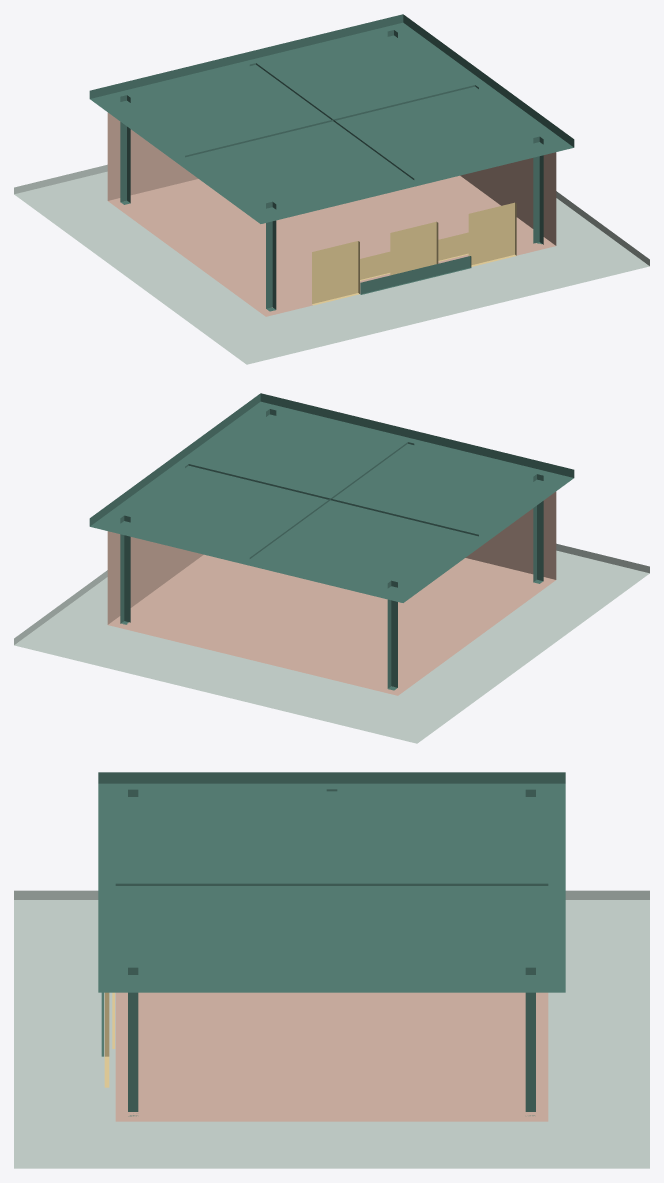
File: feed_plant.glb
3 renders of one model, top to bottom at view 1: azimuth 30°, elevation 25°; view 2: azimuth 150°, elevation 25°; view 3: azimuth 270°, elevation 25°, orthographic. The views are drawn at different scales.
Visible parts, largest first — view 1: Roof, Foundation, Walls, Details, Frame; view 2: Roof, Walls, Foundation, Frame; view 3: Roof, Foundation, Walls, Frame, Details.
Boxes of the visible parts, bbox=[...] form: Roof: bbox=[89, 14, 574, 223]; Foundation: bbox=[14, 164, 649, 364]; Walls: bbox=[107, 112, 556, 316]; Details: bbox=[312, 202, 516, 305]; Frame: bbox=[120, 30, 543, 311]; Roof: bbox=[89, 393, 574, 602]; Walls: bbox=[107, 491, 556, 695]; Foundation: bbox=[14, 543, 649, 743]; Frame: bbox=[120, 409, 543, 690]; Roof: bbox=[98, 772, 565, 992]; Foundation: bbox=[14, 890, 649, 1168]; Walls: bbox=[115, 992, 548, 1121]; Frame: bbox=[115, 789, 548, 1116]; Details: bbox=[101, 992, 114, 1087].
Bounding box in the file's own units: 40 × 10.94 × 40.
